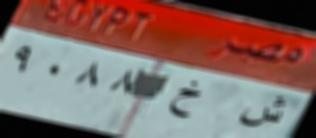0: (46, 59, 65, 87)
8: (71, 54, 102, 96), (112, 65, 135, 105)
9: (14, 38, 34, 76)
khaa: (167, 76, 205, 125)
sheen: (236, 91, 288, 130)
